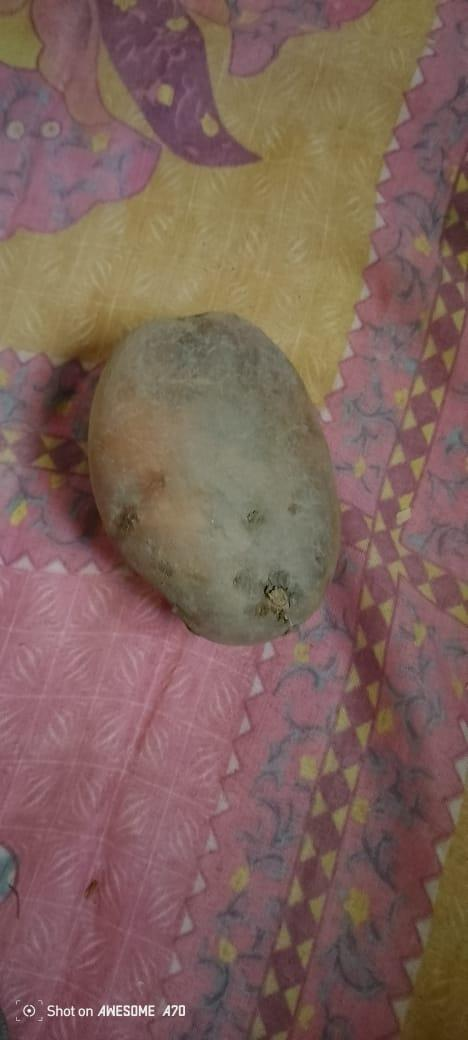non-mango: (80, 308, 347, 650)
